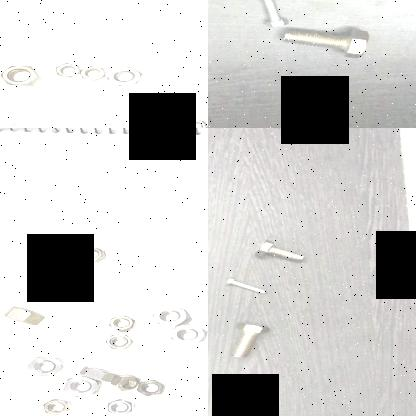Bolts: (276, 25, 385, 59), (228, 319, 272, 360), (252, 238, 308, 262), (249, 0, 292, 30), (226, 276, 266, 294)
NUTS: (60, 374, 108, 398), (150, 302, 193, 328), (0, 62, 42, 88), (22, 354, 66, 378), (104, 64, 148, 86), (168, 322, 208, 346), (145, 105, 186, 128), (136, 376, 168, 402), (40, 394, 77, 416), (74, 244, 112, 264), (109, 369, 143, 391), (101, 396, 138, 416), (60, 274, 96, 293), (77, 61, 107, 82), (104, 332, 138, 350), (54, 60, 84, 78), (76, 363, 108, 379), (108, 314, 140, 330), (179, 113, 208, 128), (0, 120, 37, 128)
